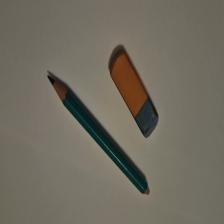eraser: (110, 51, 160, 140)
pencil: (48, 76, 151, 197)
